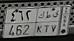2: (22, 9, 31, 36)
4: (7, 10, 16, 37)
6: (15, 10, 23, 36)
K: (36, 10, 44, 31)
T: (43, 11, 51, 32)
V: (50, 10, 60, 33)
